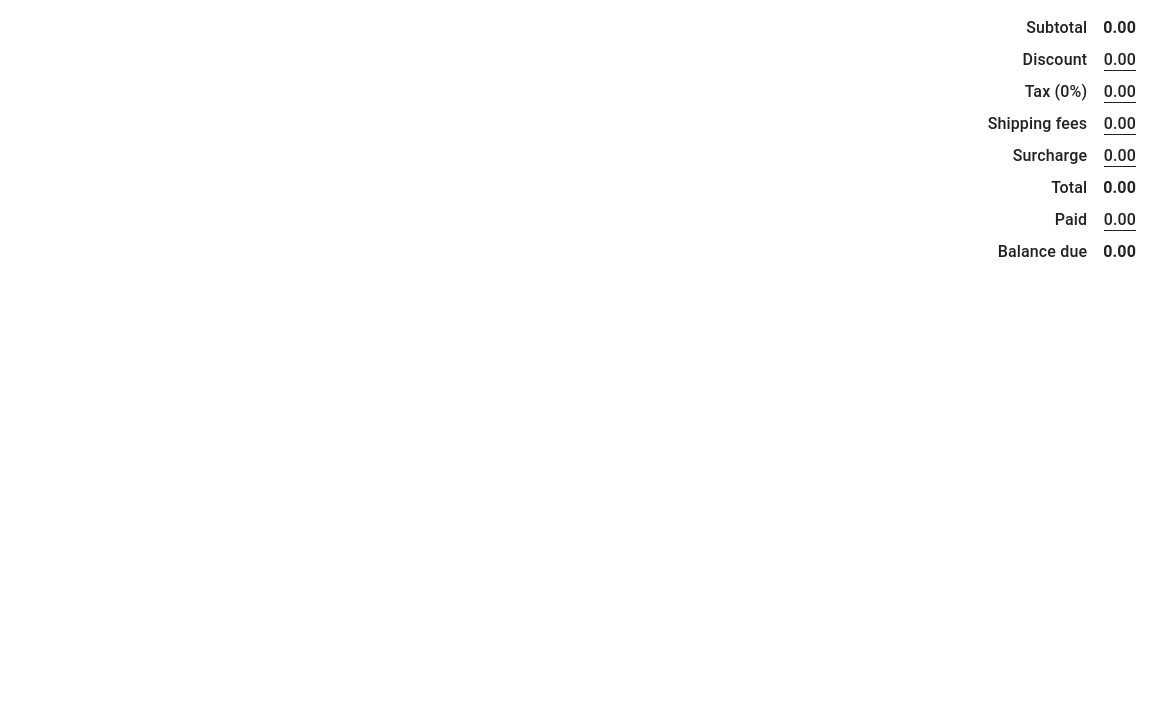
FinancialInfo › opens the add-payment drawer directly when there are no existing payments
The image size is (1152, 720).
Step 1. Click the 7th text "0.00" → click(1120, 220), box [1104,208,1136,232]
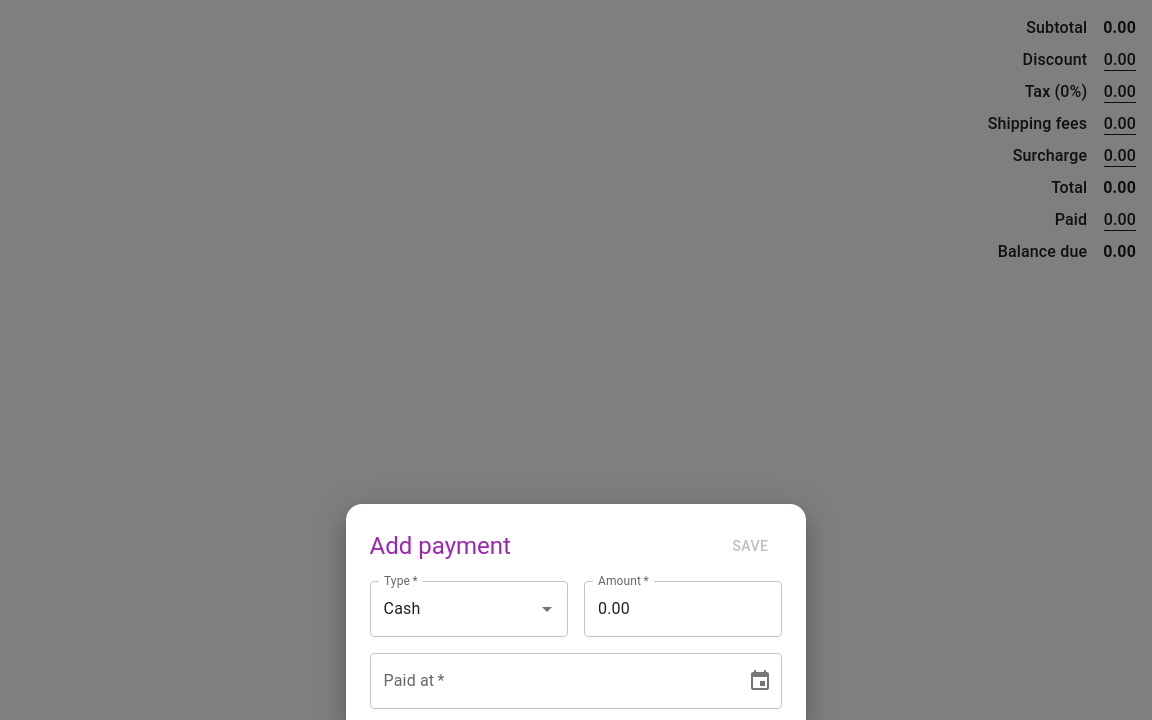
Expected: the text "Add payment" is shown, [370,530,511,562]
